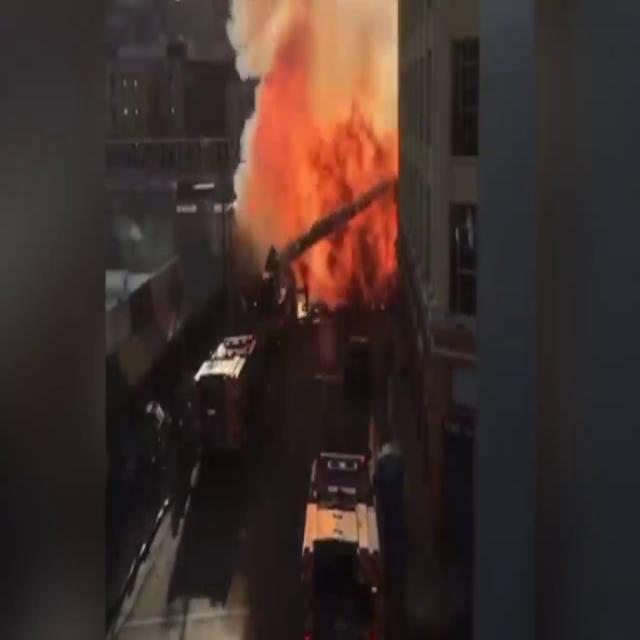Fire: (243, 46, 404, 312)
